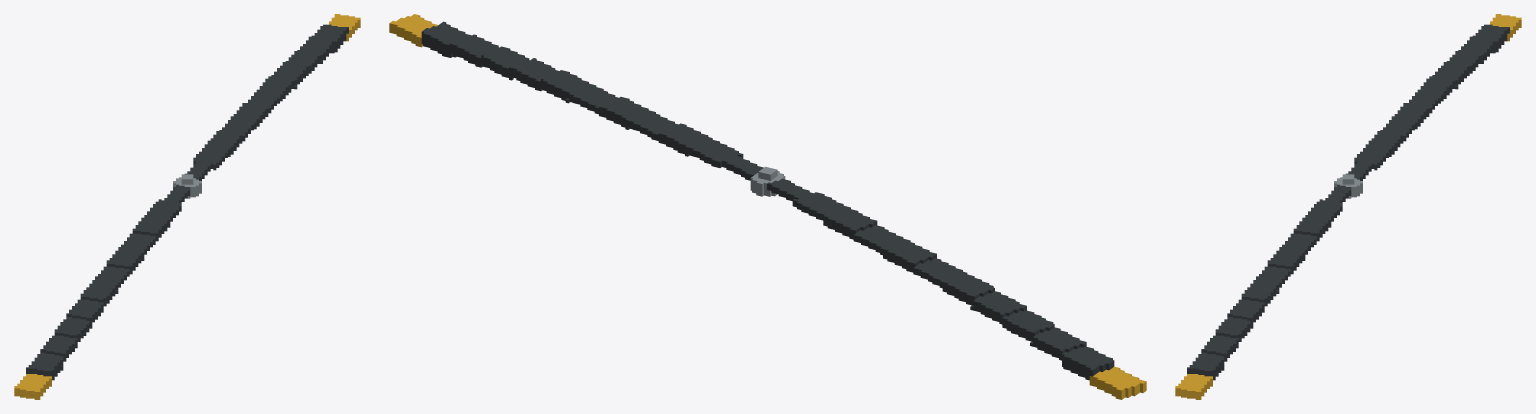
The model's file is news_helicopter_main_rotor.glb.
3 renders of one model, left to right at view 1: azimuth 90°, elevation 25°; view 2: azimuth 150°, elevation 25°; view 3: azimuth 270°, elevation 25°, orthographic. The views are drawn at different scales.
Visible parts, largest first — view 1: body:compound; view 2: body:compound; view 3: body:compound.
Part boxes in pixels (x1=…): body:compound: x1=14, y1=14, x2=360, y2=399; body:compound: x1=389, y1=14, x2=1146, y2=399; body:compound: x1=1175, y1=14, x2=1521, y2=399.
Size of the model in its own units: 9.69 by 0.4062 by 3.75.
